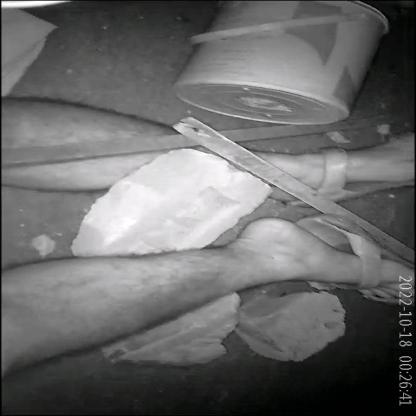leg: (0, 214, 416, 372), (0, 86, 416, 210)
